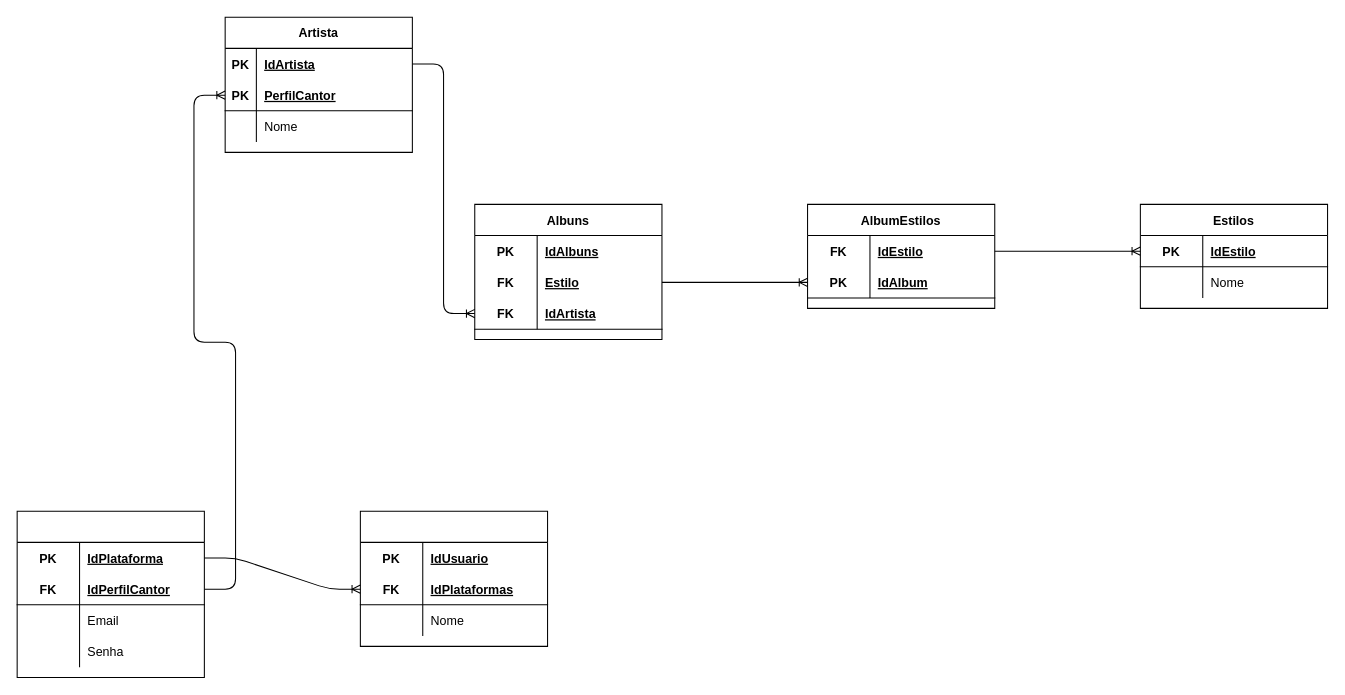
The diagram is 1345 pixels wide and 695 high, and some of its shapes have lost their labels. Each missing label, with the box of its shape:
Plataformas: (16, 510, 204, 678)
Usuarios: (359, 510, 548, 646)
